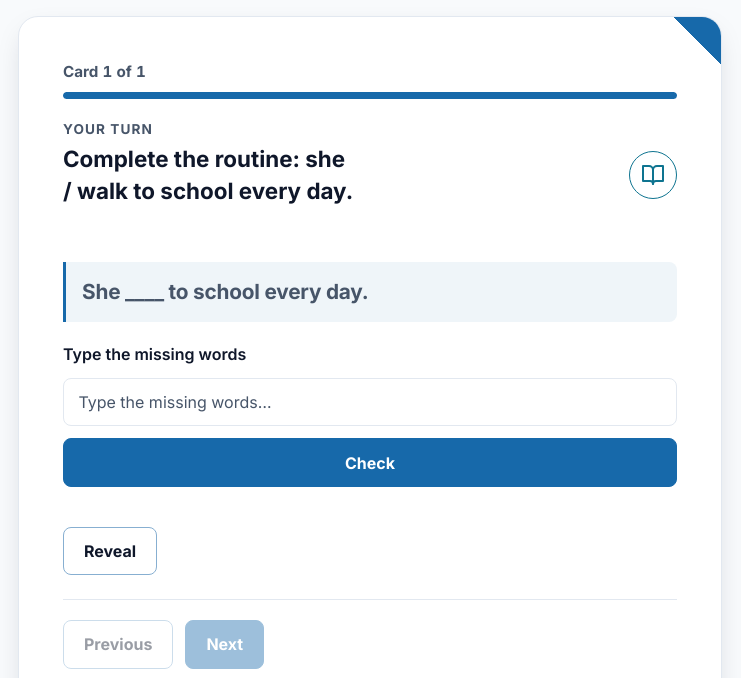
Test: VerbTensesPracticeClient › Reveal muestra modelo, explicación con cursiva y traducción
This screenshot has width=741, height=678.
Step 1. Click the button "Reveal" → x=110, y=551, box [63,527,157,575]
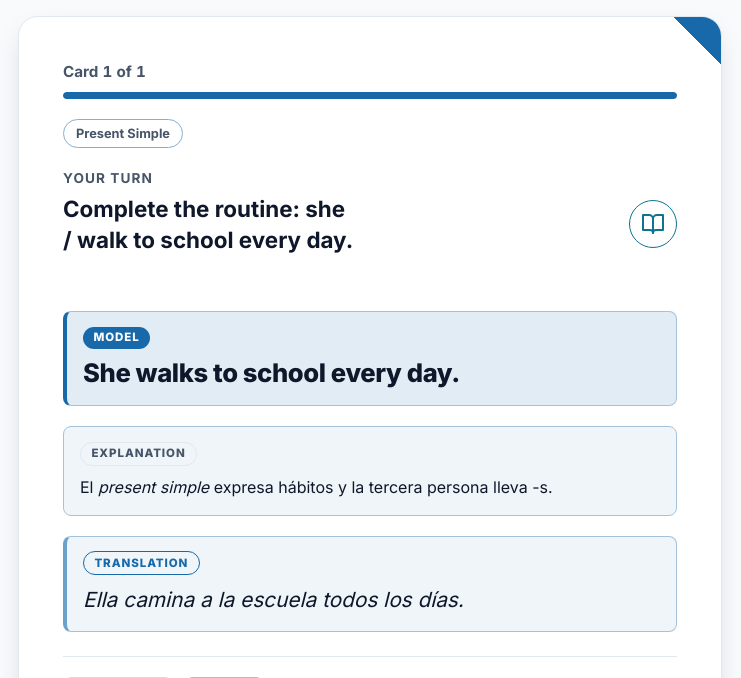
Check: the text "She walks to school every day." is shown, box [83,358,460,390]
Check: the element with class "answer-text" reads "El present simple expresa hábitos y la tercera persona lleva -s.", box [80,475,553,499]
Check: the text "present simple" is shown, box [98,477,209,497]
